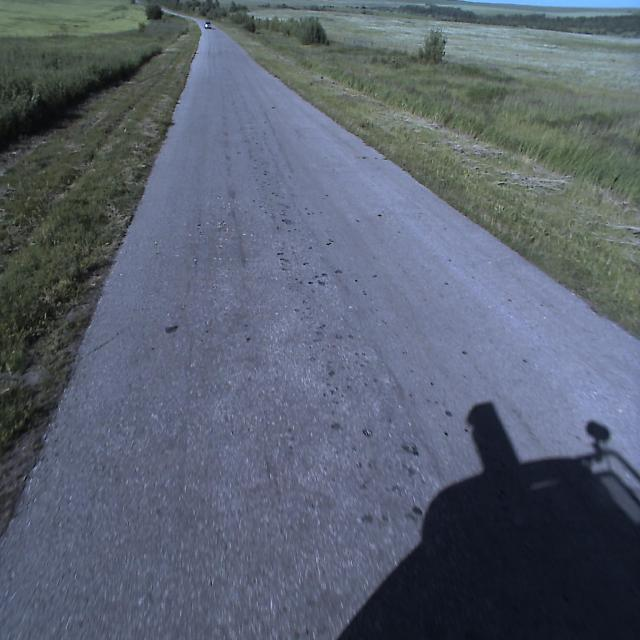road: (0, 17, 640, 639)
